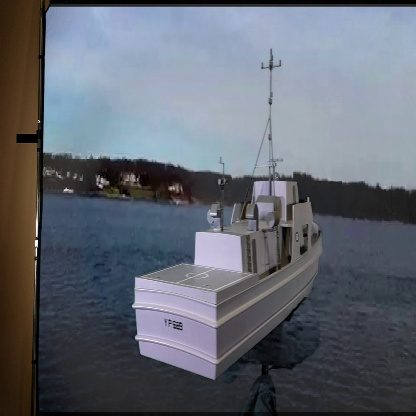YP689: (132, 46, 324, 379)
